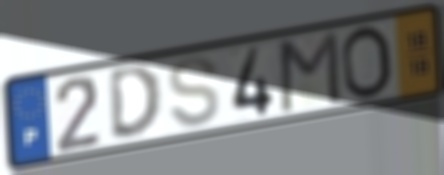2: (51, 72, 105, 156)
4: (228, 43, 277, 120)
D: (105, 62, 166, 142)
M: (277, 28, 344, 117)
O: (339, 23, 396, 103)
S: (165, 53, 223, 130)
